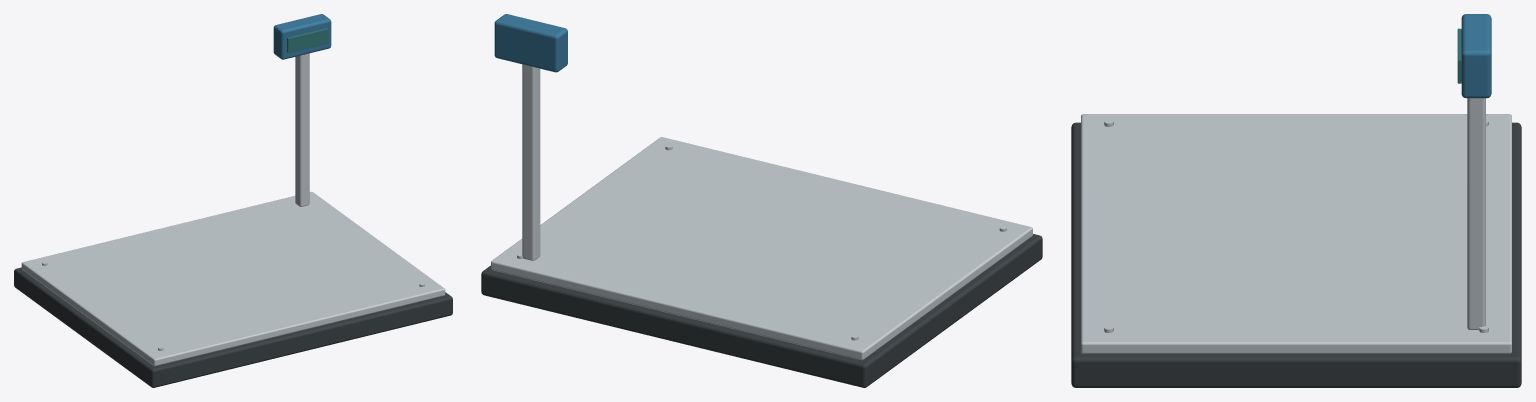
File: recycling-centre-and-material-sorting-pallet-weighing--9311d901__31138.glb
The picture shows the model from 3 angles, left to right: view 1: azimuth 30°, elevation 25°; view 2: azimuth 150°, elevation 25°; view 3: azimuth 270°, elevation 25°; orthographic projection. The views are drawn at different scales.
Visible parts, largest first — view 1: pallet-weighing-platform; view 2: pallet-weighing-platform; view 3: pallet-weighing-platform.
Part boxes in pixels (bbox=[...]): pallet-weighing-platform: bbox=[14, 14, 452, 387]; pallet-weighing-platform: bbox=[481, 14, 1042, 387]; pallet-weighing-platform: bbox=[1071, 14, 1521, 387].
Bounding box in the file's own units: 1.5 × 0.99 × 1.2.
